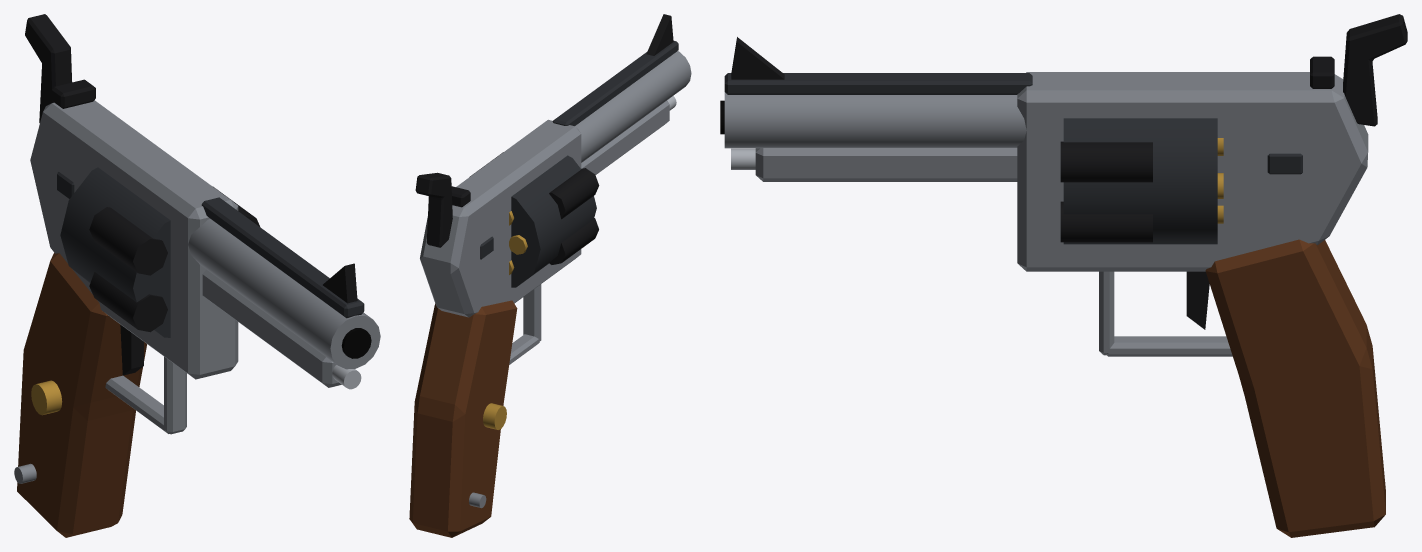
The model's file is Revolver.fbx.
3 renders of one model, left to right at view 1: azimuth 30°, elevation 25°; view 2: azimuth 150°, elevation 25°; view 3: azimuth 270°, elevation 25°, orthographic. The views are drawn at different scales.
Visible parts, largest first — view 1: Revolver; view 2: Revolver; view 3: Revolver.
Part boxes in pixels (x1,y1,x2,y2): Revolver: (14,14,380,537); Revolver: (409,14,691,537); Revolver: (720,14,1407,537).
Bounding box in the file's own units: 33.28 × 118 × 145.
